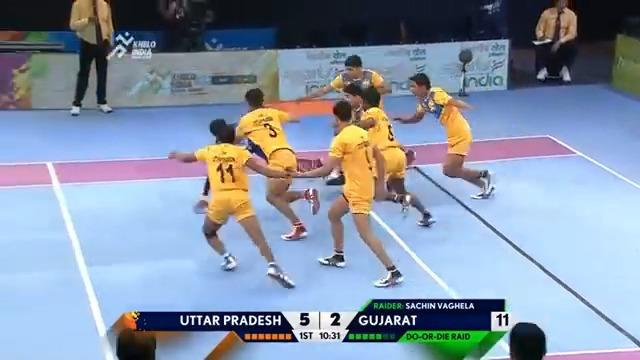Player: (166, 116, 299, 290), (289, 99, 407, 289), (391, 70, 497, 201), (331, 55, 379, 96)
Raider: (230, 86, 320, 241)
referee: (68, 0, 115, 115), (531, 0, 578, 84)
